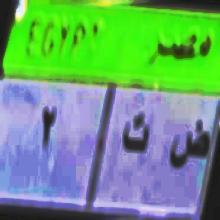2: (40, 103, 58, 156)
daad: (170, 108, 209, 177)
taa: (122, 108, 149, 166)
